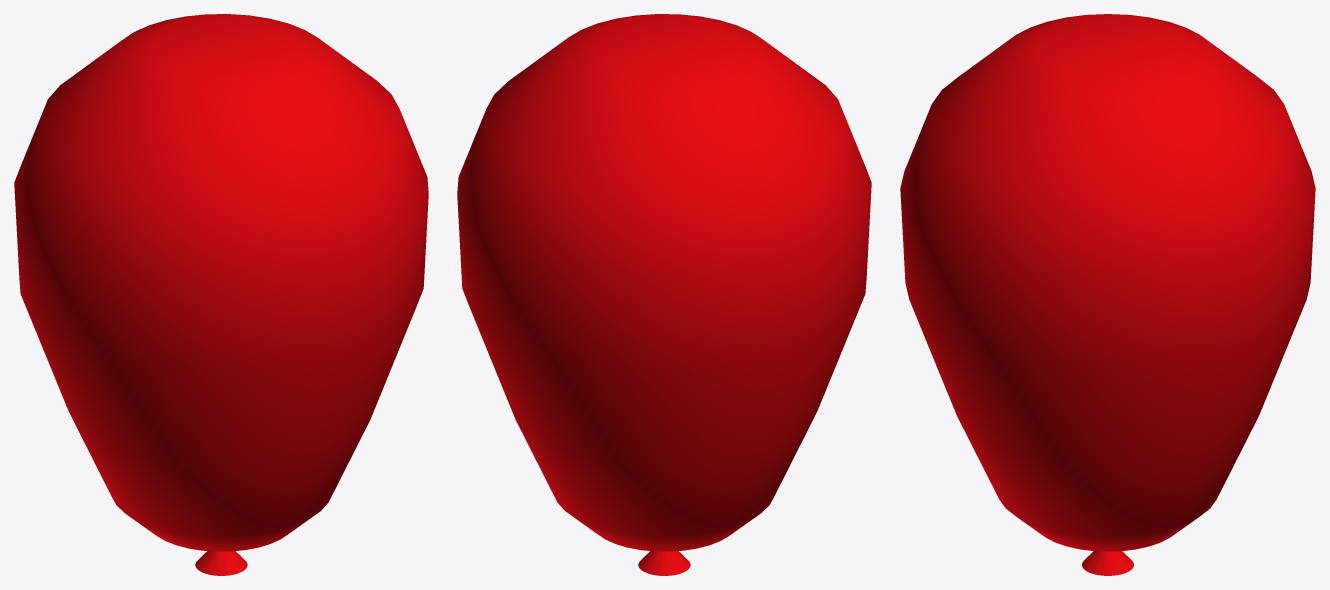
The model's file is bloon.fbx.
The picture shows the model from 3 angles, left to right: view 1: azimuth 30°, elevation 25°; view 2: azimuth 150°, elevation 25°; view 3: azimuth 270°, elevation 25°; orthographic projection.
Visible parts, largest first — view 1: Circle; view 2: Circle; view 3: Circle.
Part boxes in pixels (bbox=[...]): Circle: bbox=[14, 14, 428, 575]; Circle: bbox=[457, 14, 871, 575]; Circle: bbox=[900, 14, 1315, 575].
Size of the model in its own units: 192 by 266 by 192.
